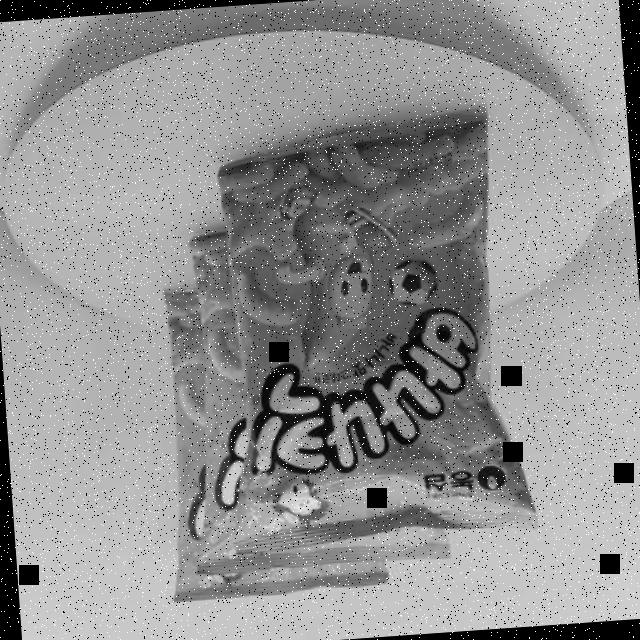snack_bag: (106, 98, 557, 618)
